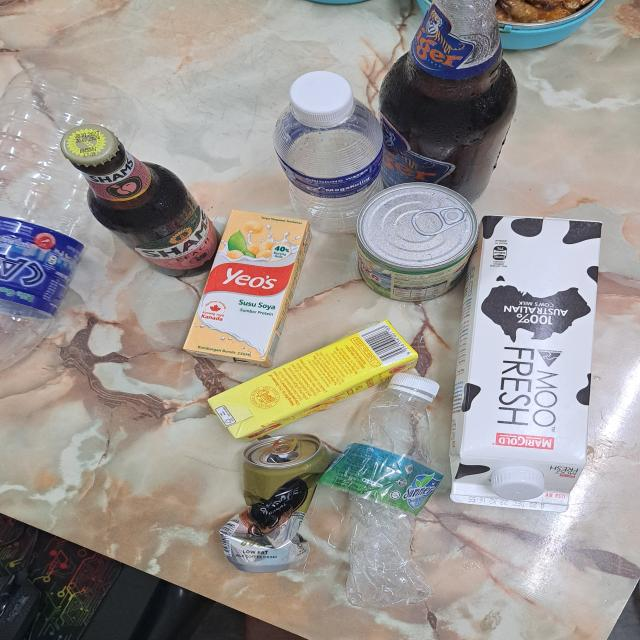can: (351, 184, 477, 302)
drink carton: (451, 210, 600, 515), (220, 324, 415, 440), (187, 207, 312, 368)
glass bottle: (375, 0, 518, 206), (54, 128, 225, 283)
plastic bottle: (0, 64, 134, 402), (322, 391, 435, 612), (268, 105, 384, 234)
plastic bottle cap: (287, 68, 349, 118), (482, 463, 545, 498), (394, 374, 445, 400)
pop tab: (405, 190, 449, 235)
